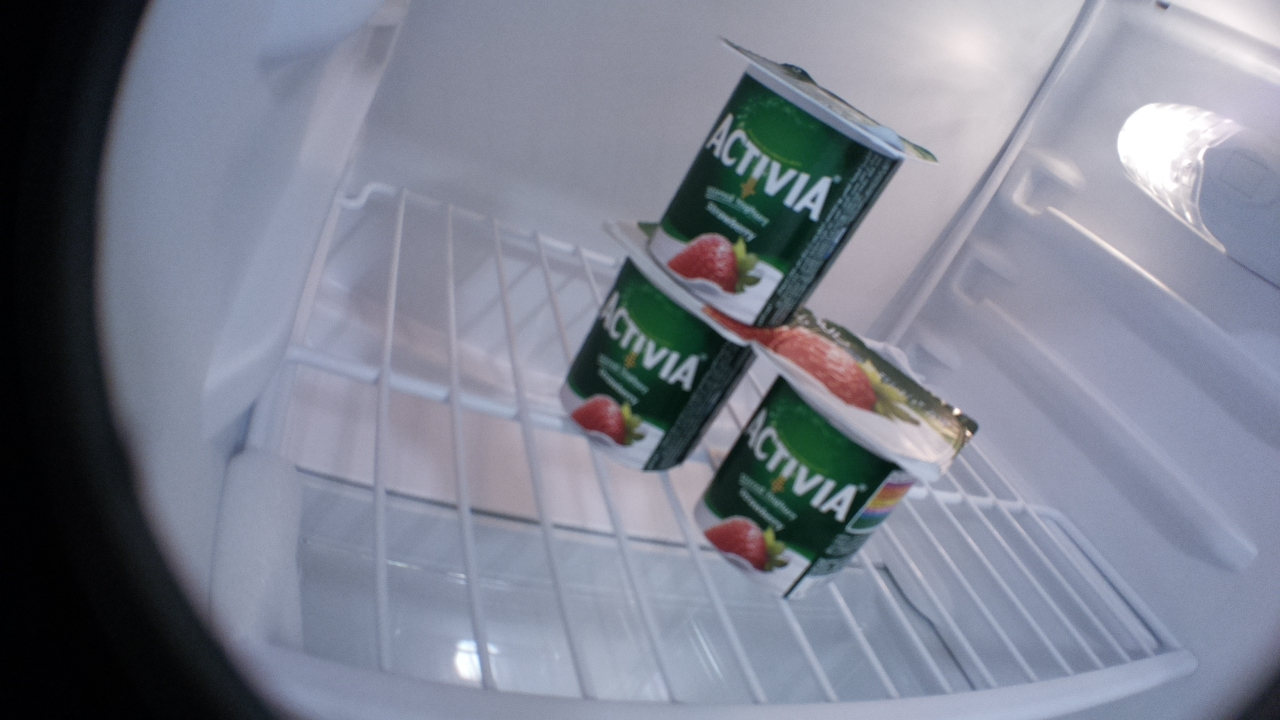yoghurt: (642, 36, 942, 331), (688, 322, 978, 604), (558, 220, 756, 473)
